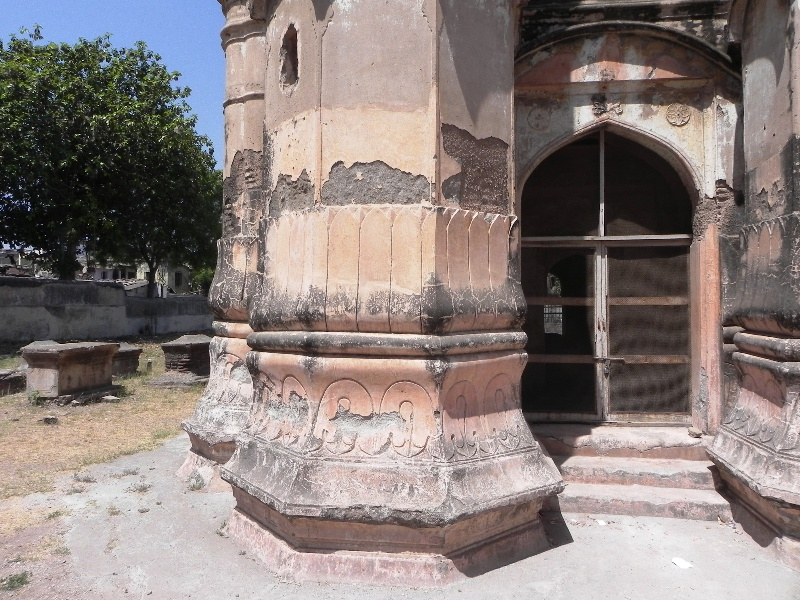Exposed Bricks: (715, 184, 728, 215), (243, 162, 255, 192), (221, 197, 232, 227)
Spalling: (439, 120, 515, 218), (319, 157, 432, 202), (330, 405, 405, 432), (268, 170, 315, 211)
